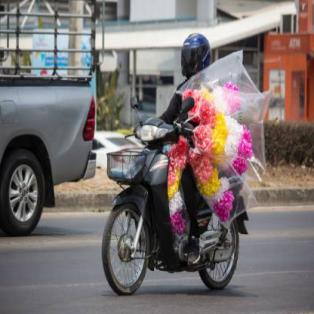Motocicleta: (97, 101, 256, 294)
